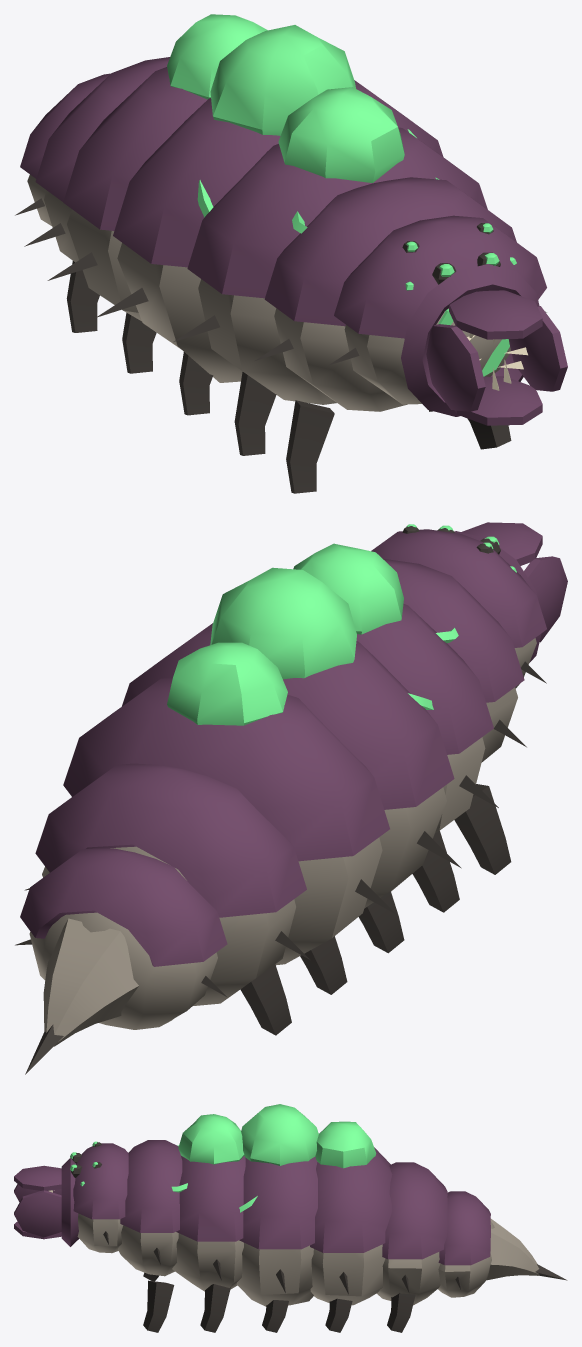
The model's file is Monster_SpitterGrub.fbx.
The picture shows the model from 3 angles, top to bottom: view 1: azimuth 30°, elevation 25°; view 2: azimuth 150°, elevation 25°; view 3: azimuth 270°, elevation 25°; orthographic projection. The views are drawn at different scales.
Visible parts, largest first — view 1: Front, Body, Head, BodyGlow, Tail, FrontGlow, MouthRight, MouthTop, MouthLeft, MouthBottom, HeadGlow; view 2: Tail, Body, Front, BodyGlow, Head, FrontGlow, MouthRight, MouthTop; view 3: Body, Front, Tail, Head, BodyGlow, FrontGlow, MouthLeft, MouthTop.
Part boxes in pixels (x1=…): Front: x1=173, y1=127, x2=516, y2=493; Body: x1=47, y1=67, x2=443, y2=415; Head: x1=328, y1=215, x2=546, y2=416; BodyGlow: x1=167, y1=14, x2=416, y2=217; Tail: x1=15, y1=57, x2=169, y2=332; FrontGlow: x1=278, y1=87, x2=439, y2=233; MouthRight: x1=426, y1=324, x2=485, y2=411; MouthTop: x1=449, y1=290, x2=542, y2=343; MouthLeft: x1=498, y1=305, x2=567, y2=391; MouthBottom: x1=455, y1=359, x2=542, y2=425; HeadGlow: x1=405, y1=223, x2=516, y2=376; Tail: x1=15, y1=763, x2=309, y2=1074; Body: x1=63, y1=623, x2=461, y2=994; Front: x1=356, y1=558, x2=526, y2=912; BodyGlow: x1=167, y1=567, x2=433, y2=725; Head: x1=371, y1=526, x2=546, y2=688; FrontGlow: x1=293, y1=543, x2=458, y2=642; MouthRight: x1=524, y1=556, x2=567, y2=642; MouthTop: x1=461, y1=522, x2=542, y2=565; Body: x1=236, y1=1147, x2=392, y2=1332; Front: x1=118, y1=1140, x2=245, y2=1332; Tail: x1=376, y1=1162, x2=567, y2=1332; Head: x1=61, y1=1142, x2=128, y2=1253; BodyGlow: x1=239, y1=1104, x2=376, y2=1212; FrontGlow: x1=171, y1=1114, x2=244, y2=1192; MouthLeft: x1=14, y1=1190, x2=61, y2=1237; MouthTop: x1=14, y1=1165, x2=61, y2=1192.
Bounding box in the file's own units: 2.68 × 2.46 × 6.29.
